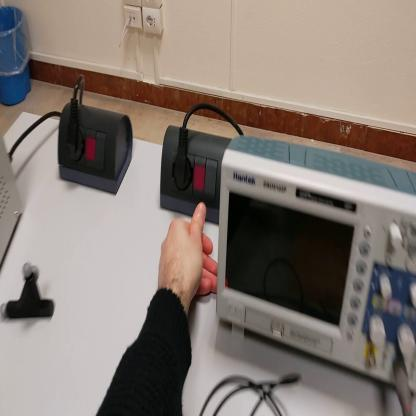hand: (157, 204, 220, 301)
oscilloscope: (219, 127, 416, 402)
power supply: (1, 127, 26, 267)
socket: (55, 99, 134, 197), (159, 127, 232, 228)
